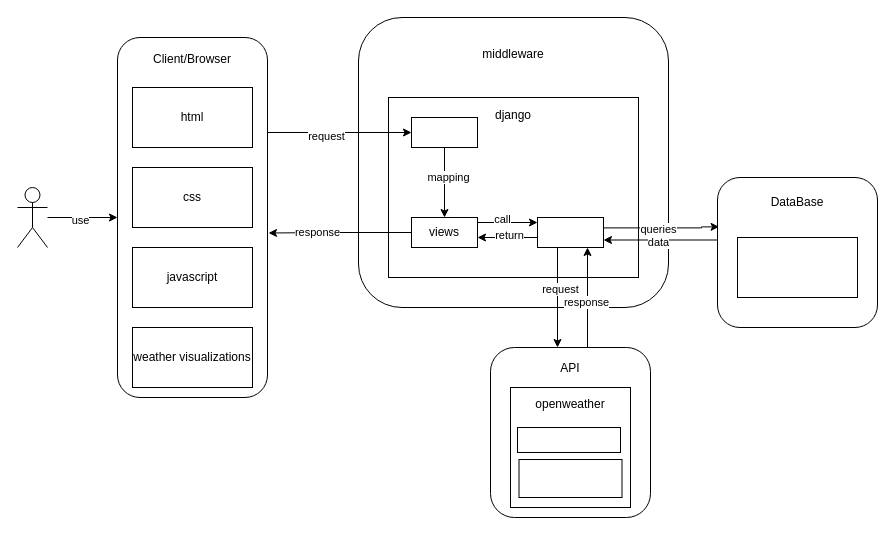
Some shapes in this 895 by 535 pixel diagram are drawn without their labels. The shapes that lost their labels are listed below. From the top down, each one's centre as x and y in pixels, then its label:
(x=444, y=132): urls
(x=32, y=217): User
(x=570, y=232): models
(x=797, y=267): MySQL
(x=568, y=439): Weather Map
(x=570, y=478): Current weather and forecasts
